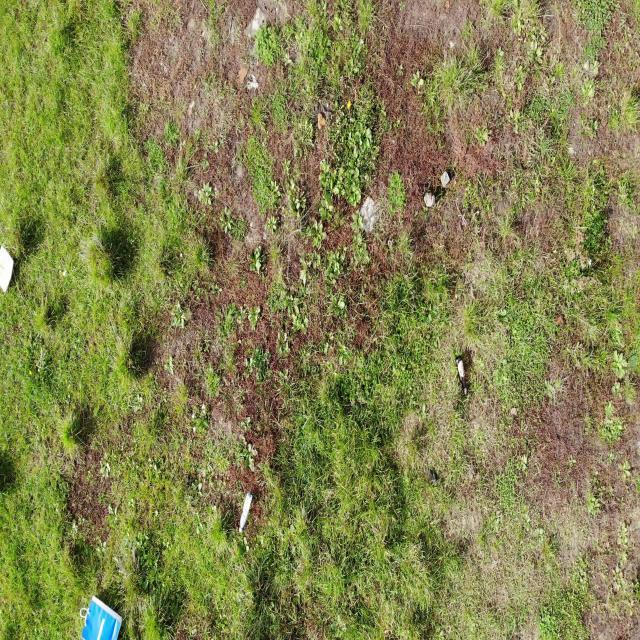rubbish: (82, 595, 123, 640), (0, 245, 15, 294), (239, 491, 254, 536), (454, 354, 467, 400)
